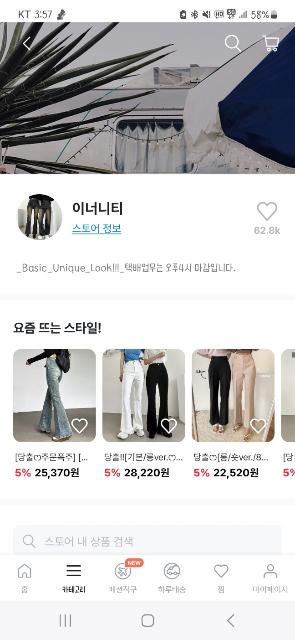BackgroundImage: (0, 22, 295, 173)
Bottom_Navigation: (0, 555, 295, 600)
EditText: (14, 524, 282, 554)
Icon: (114, 559, 144, 579), (258, 202, 277, 220), (262, 34, 280, 51), (164, 562, 180, 580), (71, 417, 89, 433), (250, 417, 268, 433), (226, 35, 242, 53), (160, 418, 177, 434), (17, 562, 31, 578), (215, 564, 229, 578), (264, 564, 278, 578), (66, 564, 81, 576), (24, 534, 36, 548), (22, 36, 32, 50)
Image: (102, 350, 186, 442), (14, 348, 96, 442), (193, 350, 275, 442), (16, 194, 62, 240)
Text: (17, 264, 236, 274), (104, 452, 184, 478), (16, 454, 90, 478), (194, 454, 268, 478), (13, 322, 101, 333), (45, 537, 133, 547), (74, 202, 122, 214), (72, 223, 120, 234), (254, 226, 280, 234), (110, 586, 136, 594), (160, 586, 186, 594), (253, 586, 287, 592), (64, 586, 84, 592), (219, 586, 225, 594), (21, 586, 27, 592)
TextImageButton: (110, 558, 144, 594), (253, 564, 287, 594), (160, 562, 186, 594), (63, 564, 85, 592), (213, 564, 228, 594), (18, 564, 32, 592)
Toolbar: (0, 22, 295, 60)
UpperTaskBar: (0, 0, 295, 22)
